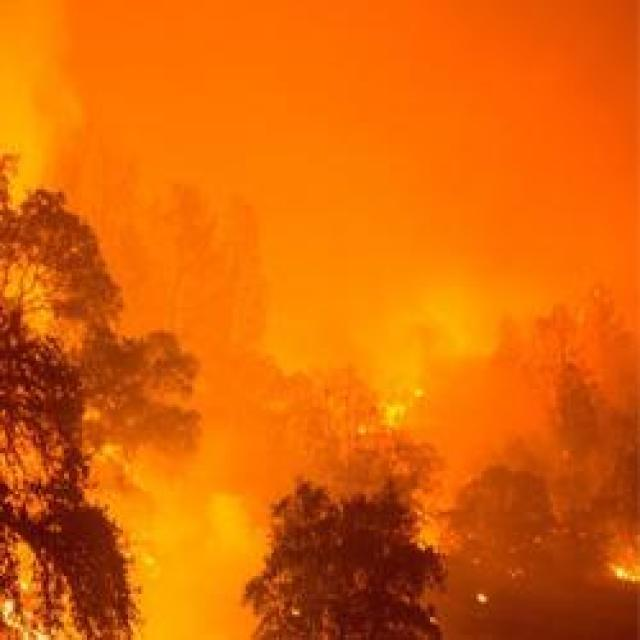Fire: (2, 566, 76, 640), (383, 381, 431, 444), (609, 538, 640, 588)
